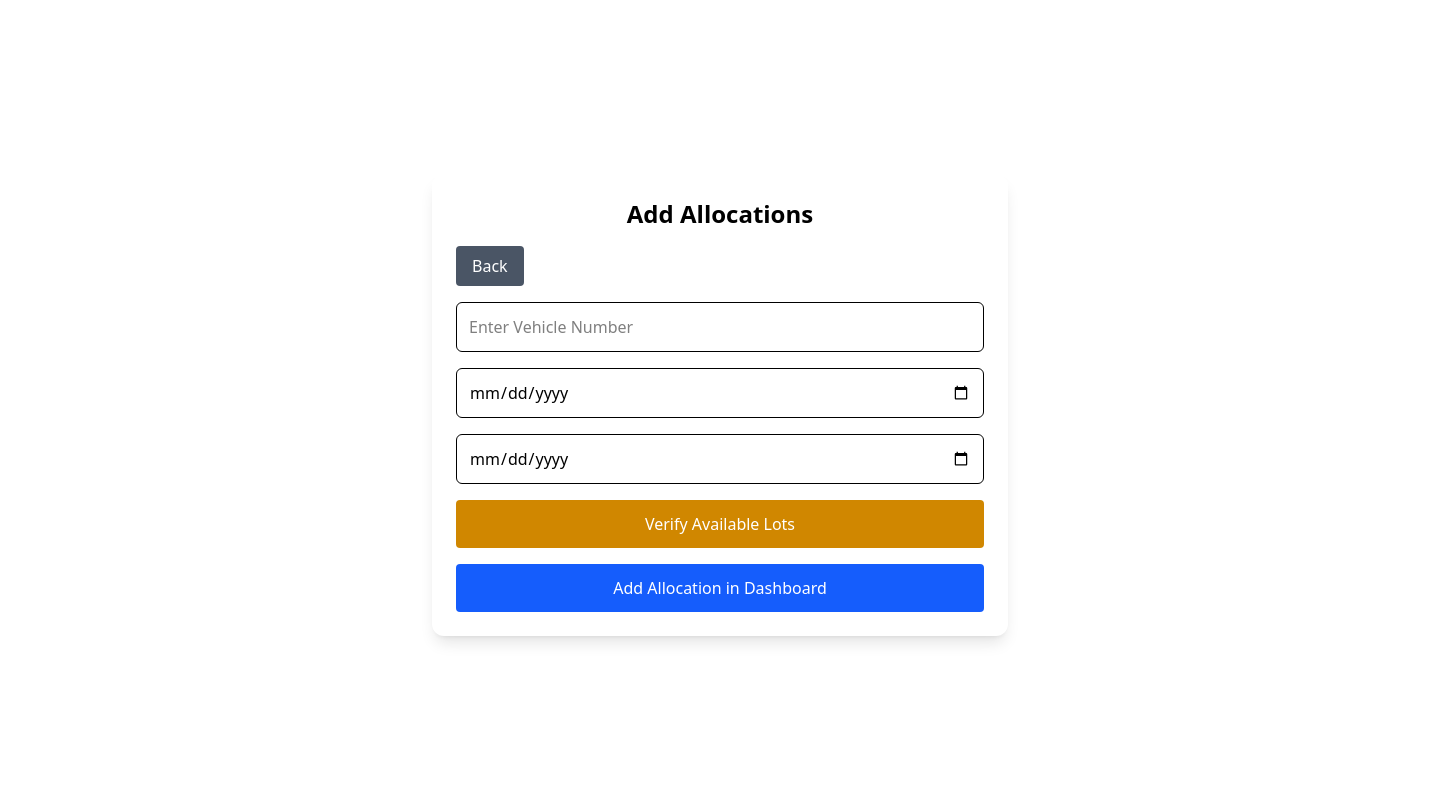
it: AddAllocationForm › shows vehicle not found error when vehicle API returns empty
# Fill inputs
Step 1. Type "INVALID123" into the field with placeholder "Enter Vehicle Number" → (720, 327), box [456,302,984,352]
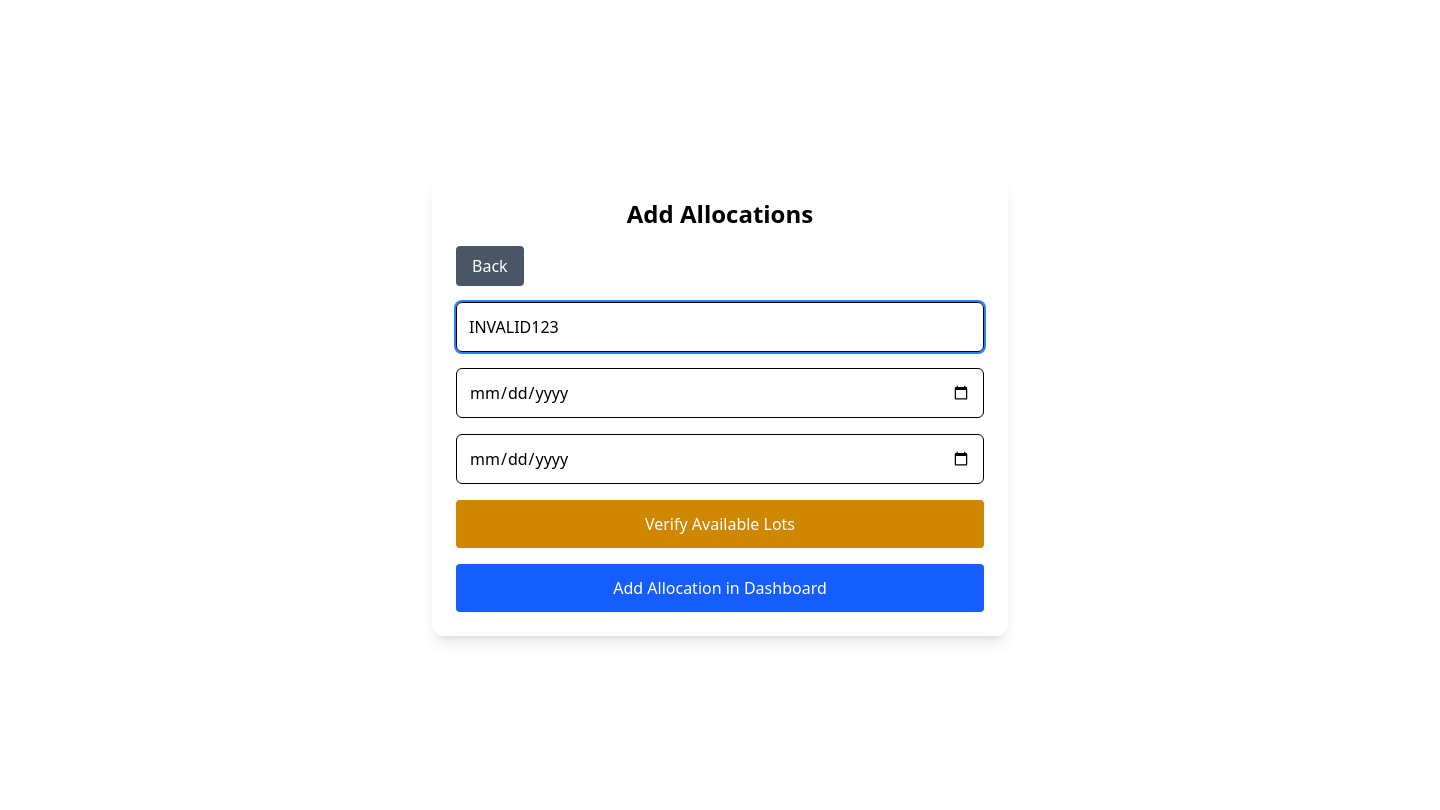
Step 2. Type "2025-08-01" into the 1st date field named "allocated from date" → (720, 393), box [456,368,984,418]
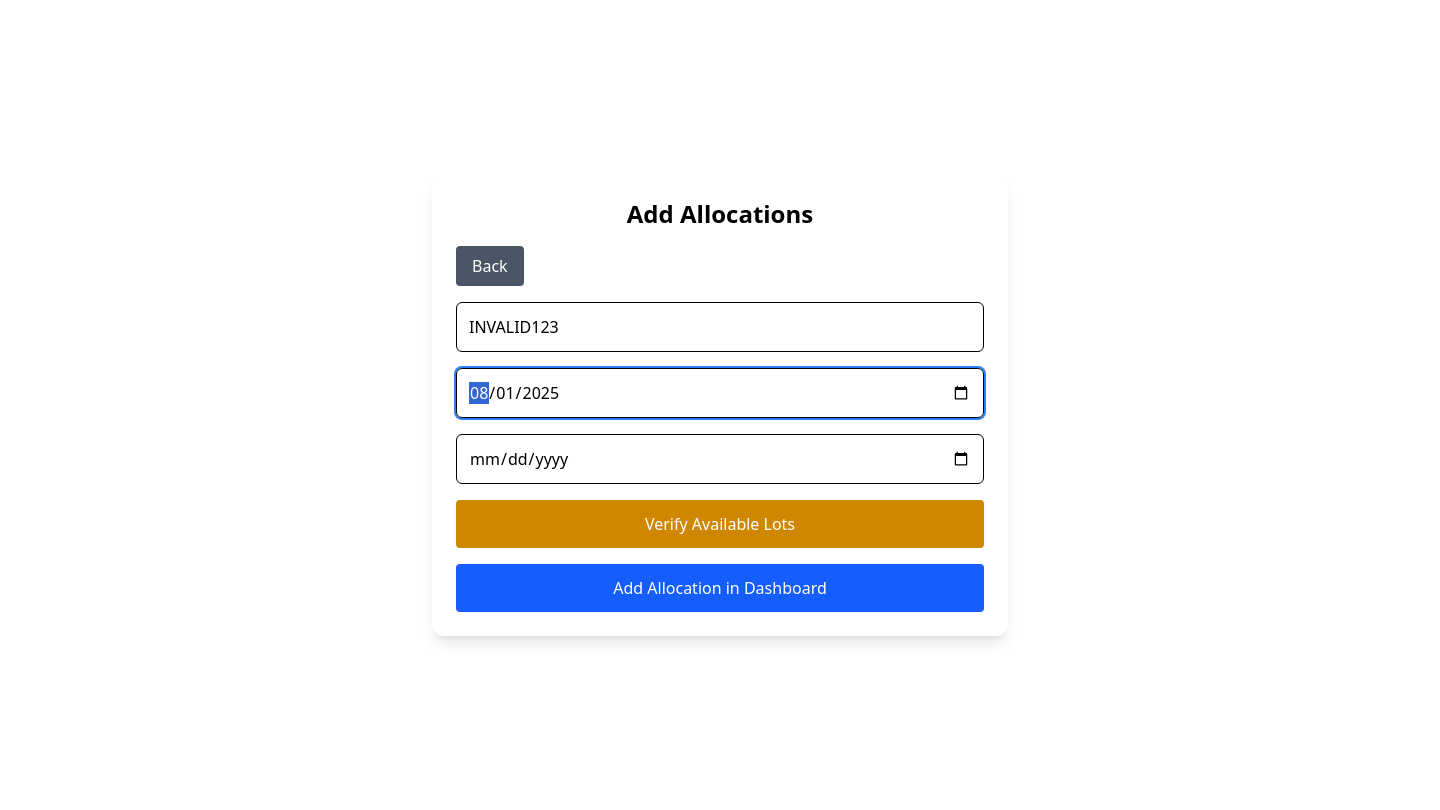
Step 3. Type "2025-08-10" into the 2nd date field named "allocated upto date" → (720, 459), box [456,434,984,484]
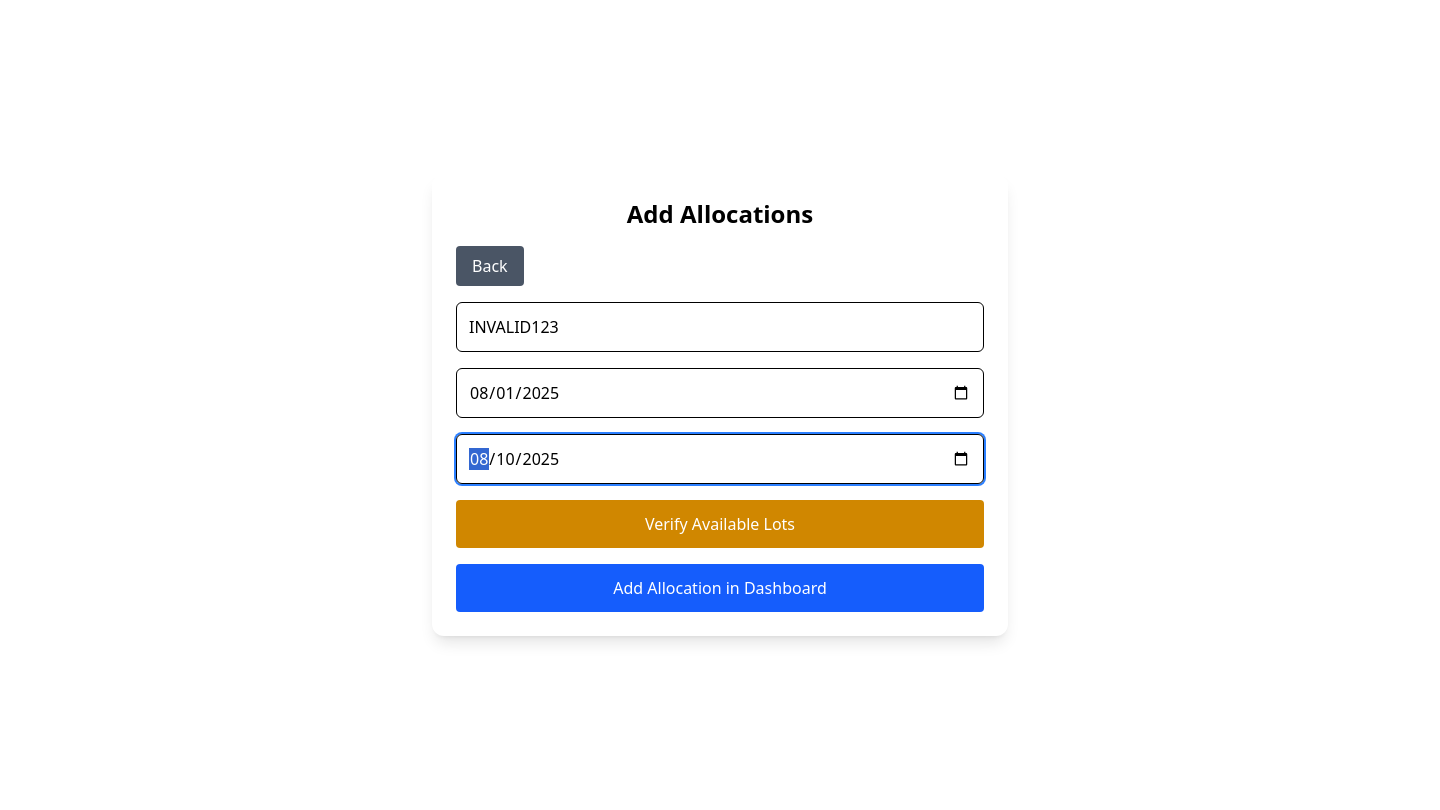
# Fetch available lots so select appears
Step 4. Click the button "Verify Available Lots" → (720, 524), box [456,500,984,548]
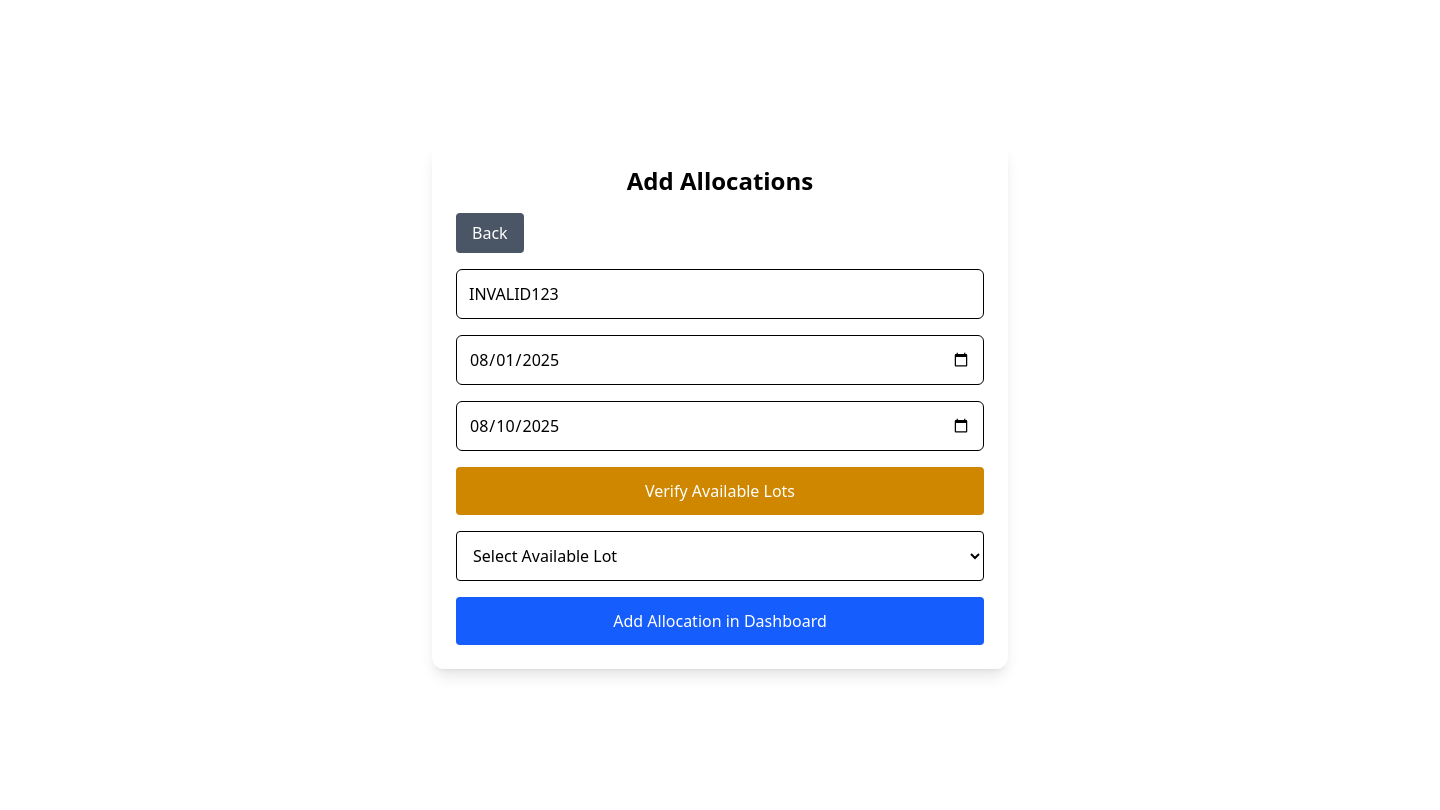
# Select a parking lot option
Step 5. Select "L1 (Level 1)" in the dropdown named "available parking lots" → (720, 556), box [456,531,984,581]
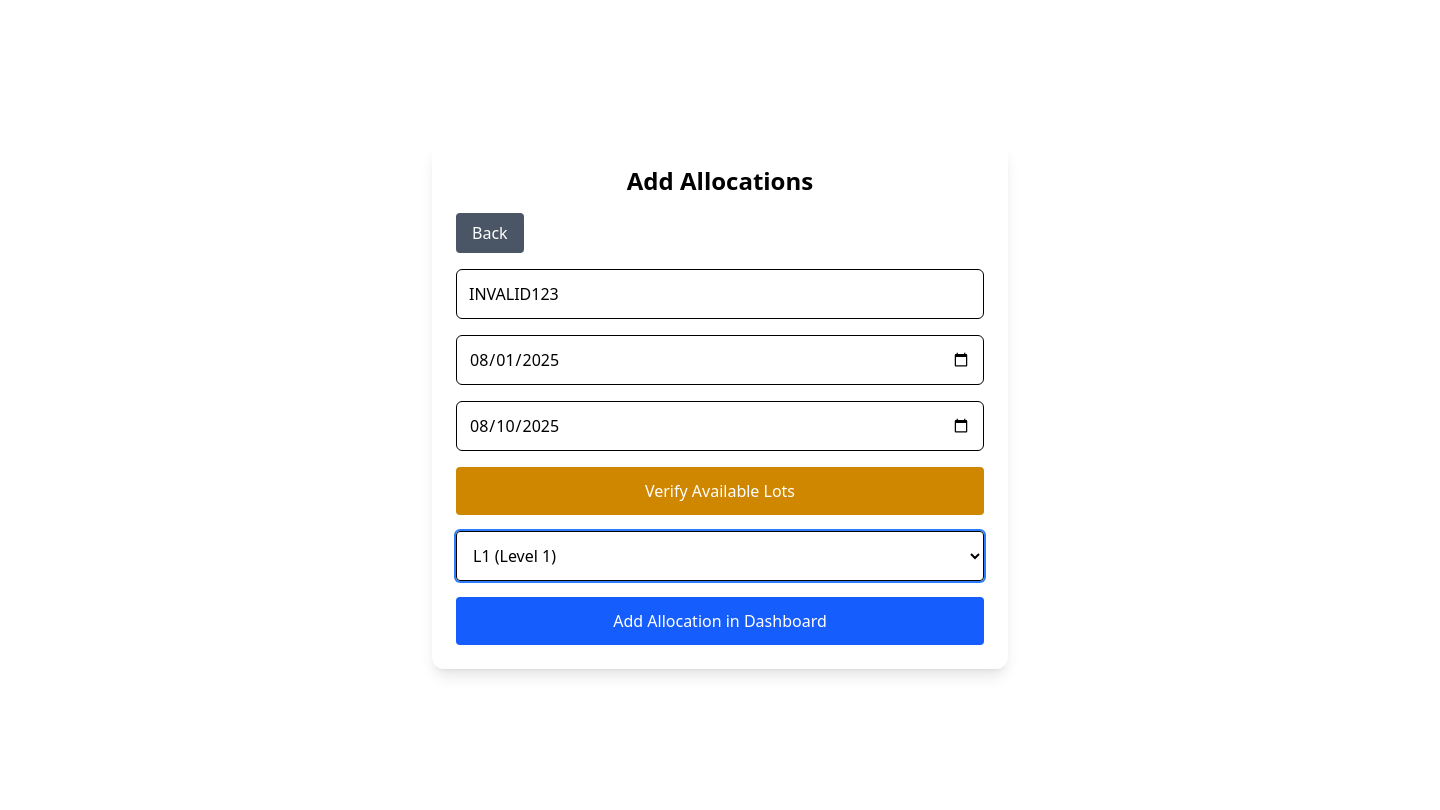
# Submit form
Step 6. Click the button "Add Allocation in Dashboard" → (720, 621), box [456,597,984,645]
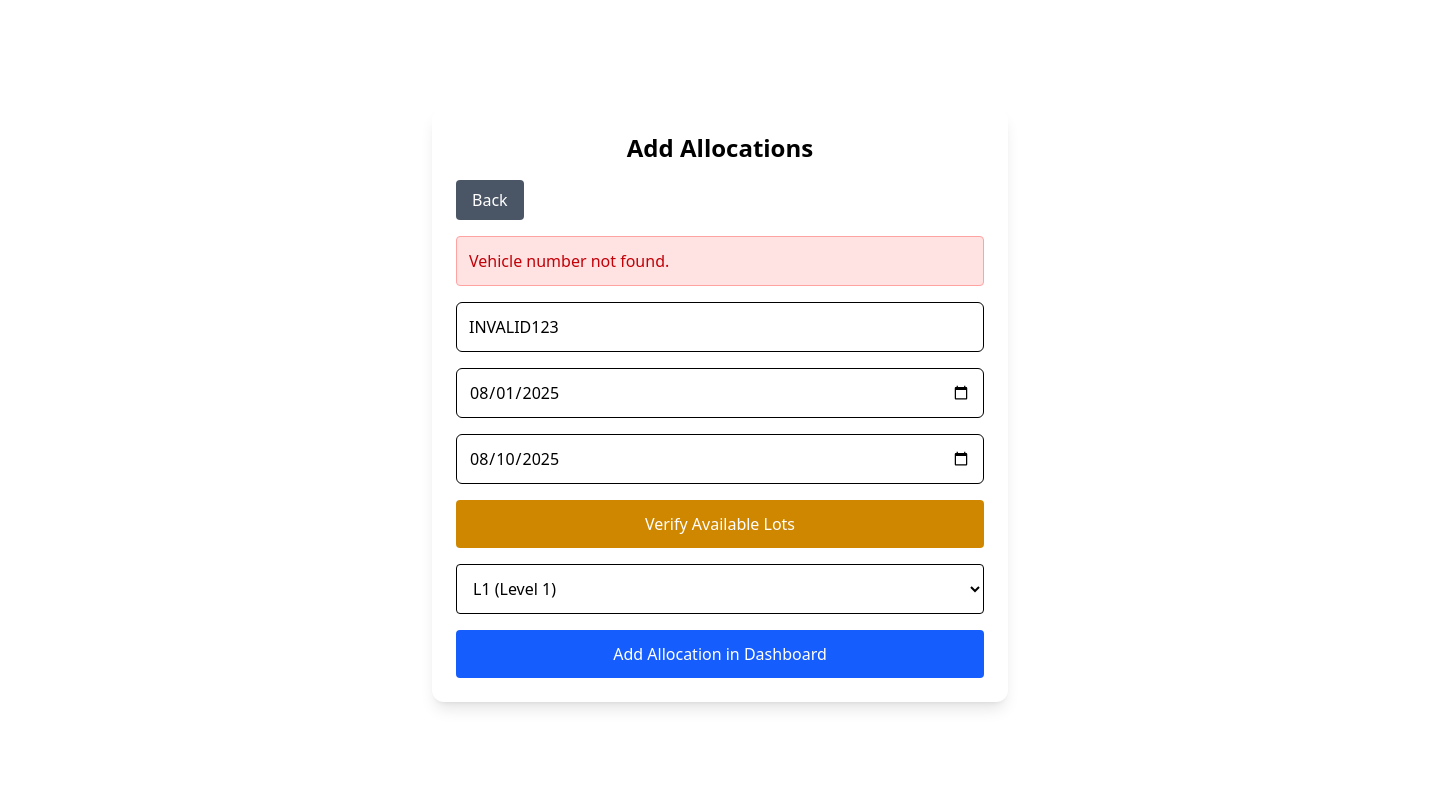
Expected: the message shows "Vehicle number not found", [469,250,669,272]
